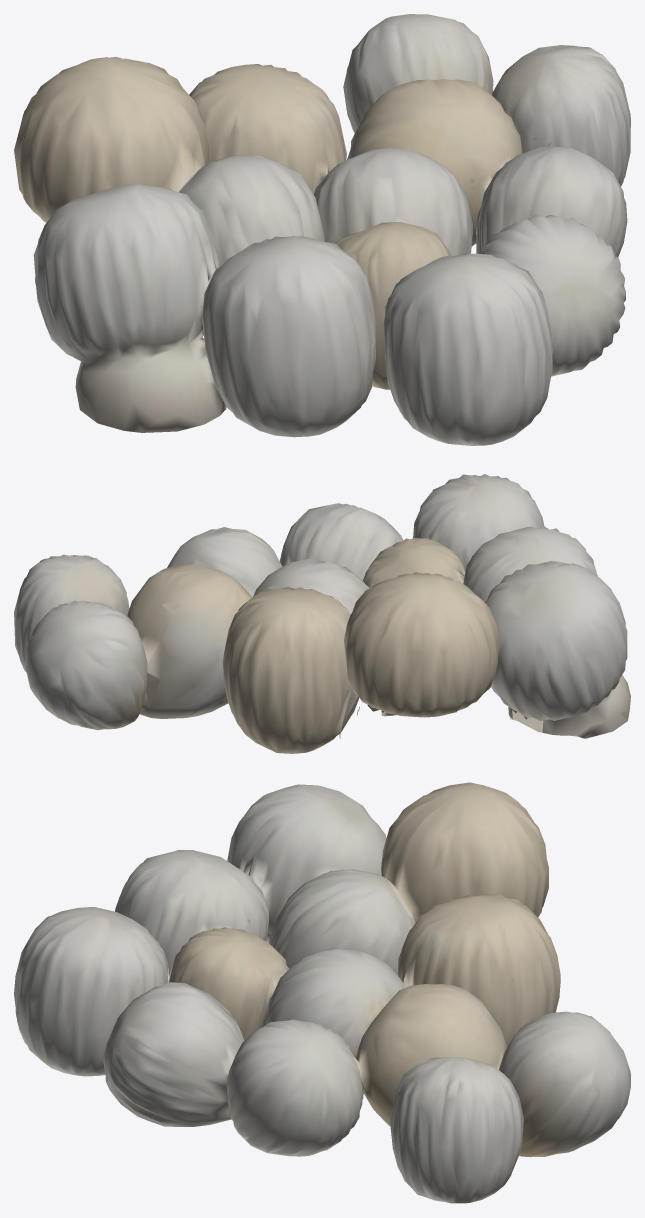
The model's file is huevos_de_caligo.fbx.
3 renders of one model, top to bottom at view 1: azimuth 30°, elevation 25°; view 2: azimuth 150°, elevation 25°; view 3: azimuth 270°, elevation 25°, orthographic. The views are drawn at different scales.
Parts seen in each view (by area): view 1: tripo_node_a939a6b2; view 2: tripo_node_a939a6b2; view 3: tripo_node_a939a6b2.
Boxes of the visible parts, x1,y1,x2,y2 form: tripo_node_a939a6b2: (14,14,630,445); tripo_node_a939a6b2: (14,474,630,753); tripo_node_a939a6b2: (14,782,630,1203).
Bounding box in the file's own units: 0.9803 × 0.3343 × 0.9087.
1 material, 1 textured.
